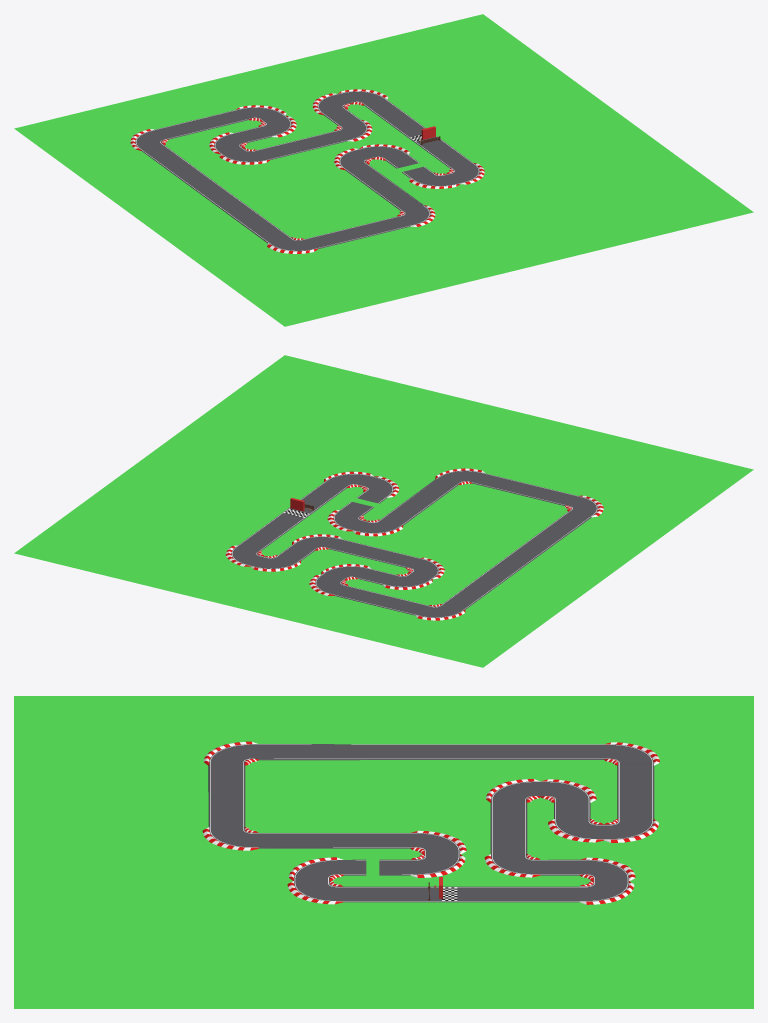
The model's file is RollABall.fbx.
3 views of the same model, one above another, from view 1: azimuth 30°, elevation 25°; view 2: azimuth 150°, elevation 25°; view 3: azimuth 270°, elevation 25° (orthographic). The views are drawn at different scales.
Parts seen in each view (by area): view 1: Plane, Track; view 2: Plane, Track; view 3: Plane, Track.
Boxes of the visible parts, box(x1,y1,x2,y2) form: Plane: box(14, 14, 753, 326); Track: box(130, 89, 484, 253); Plane: box(14, 355, 753, 667); Track: box(225, 468, 603, 620); Plane: box(14, 696, 753, 1008); Track: box(202, 741, 659, 904).
Size of the model in its own units: 583 by 16.87 by 583.
